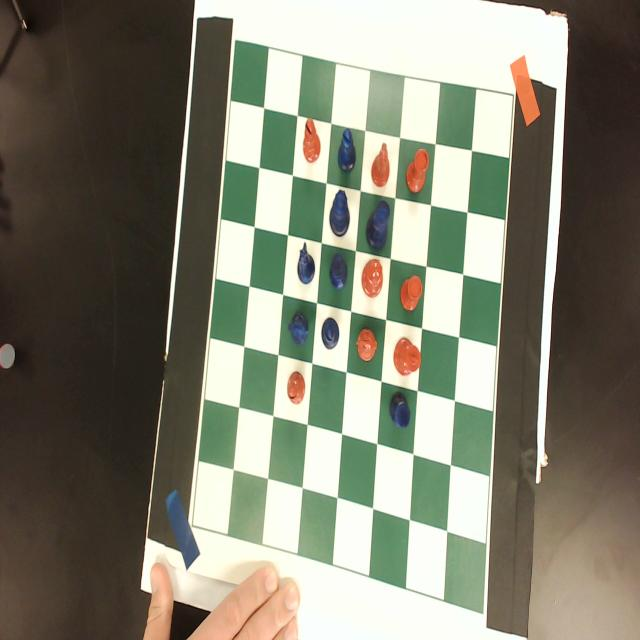B: (336, 127, 357, 175), (320, 315, 341, 352)
K: (364, 200, 391, 253)
N: (286, 308, 310, 350), (296, 240, 316, 286)
Q: (328, 189, 351, 238)
R: (389, 390, 412, 430), (328, 255, 348, 290)
b: (302, 114, 321, 166), (286, 369, 307, 406)
k: (392, 336, 422, 378)
n: (370, 140, 390, 189), (356, 325, 378, 364)
q: (361, 257, 384, 299)
r: (407, 148, 429, 194), (400, 274, 423, 314)
